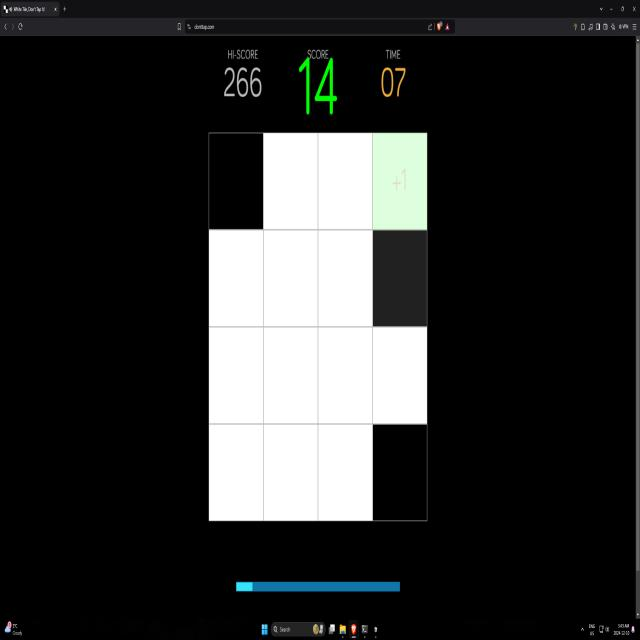black-tile: (209, 132, 264, 232), (372, 423, 428, 521), (372, 229, 427, 328)
